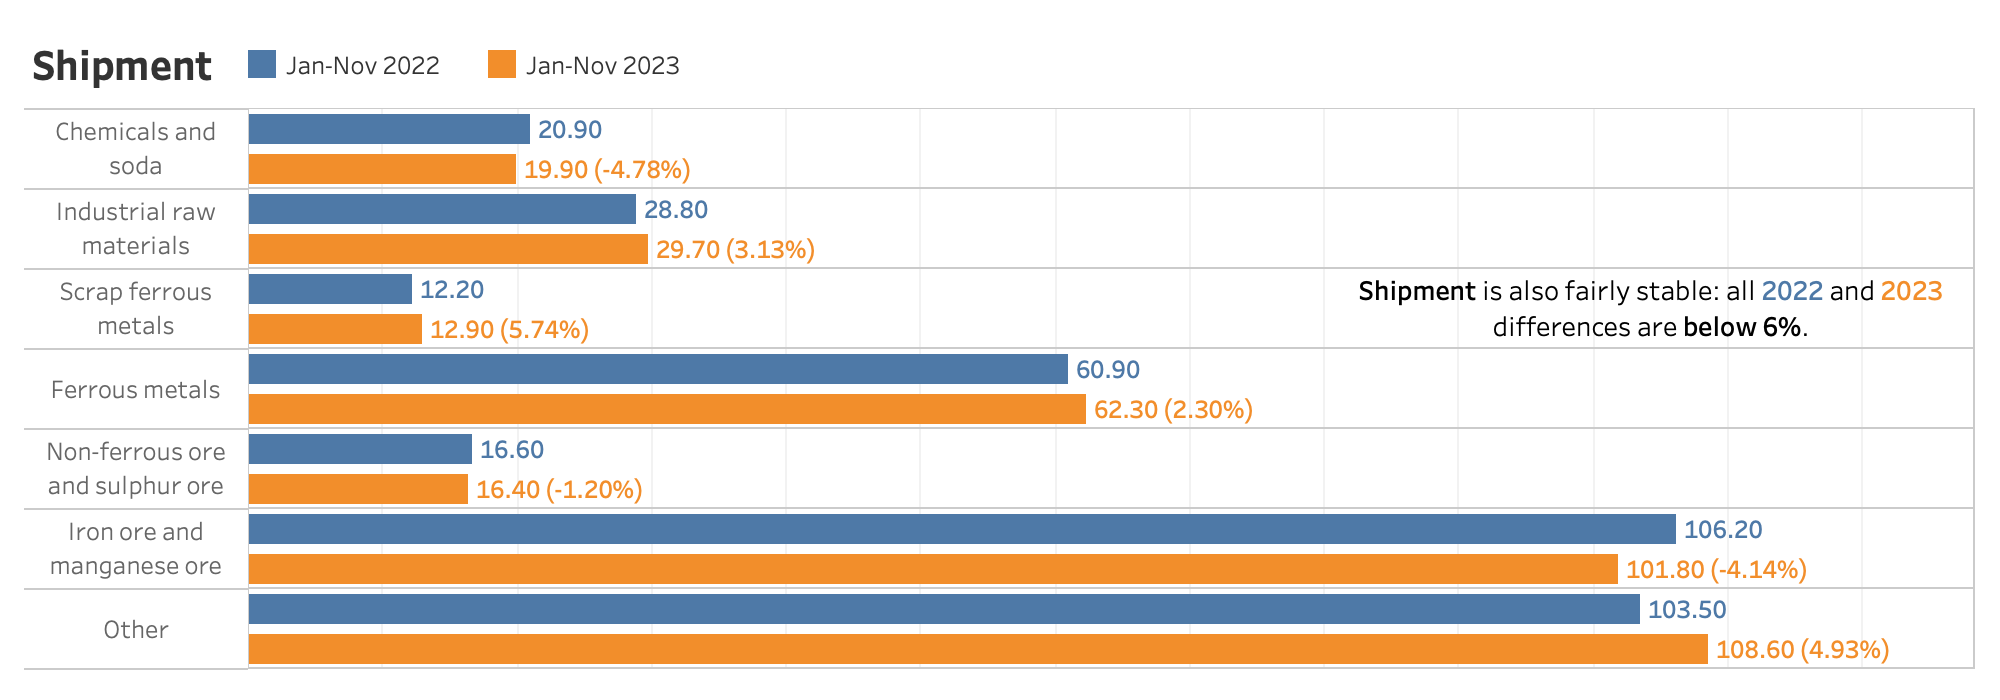

What the dashboard file says about the page in this screenshot:
{"tool":"tableau","page":{"name":"Table 3","canvas":[1000,350],"ordinal":2},"visuals":[{"type":"worksheet","title":"Shipment","mark":"Bar","rows":["Million tonnes"],"cols":["Jan-Nov 2022","Jan-Nov 2023"],"box":[8,8,984,334]},{"type":"legend","title":"Shipment","param":"[federated.08mayg10avhev119khlzq1nmbyyx].[:Measure Names]","box":[121,22,247,23]},{"type":"text","box":[665,134,321,39]}]}

Visuals, with their boxes in screenshot pixels (x1, y1, x2, y2), scaled from the page's 1000x350 canvas onto the 2000x700 screenshot:
"Shipment" worksheet (Bar marks): rect(16, 16, 1984, 684)
"Shipment" legend: rect(242, 44, 736, 90)
text: rect(1330, 268, 1972, 346)
